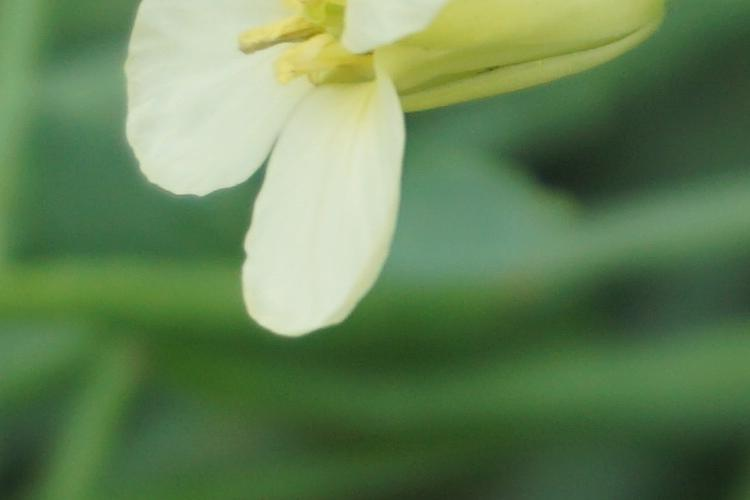white: (117, 1, 420, 331)
